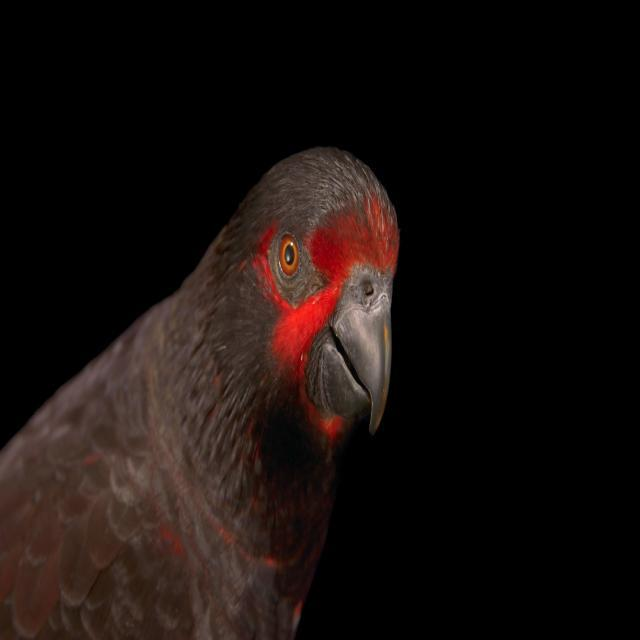Nuri Hitam: (0, 112, 418, 640)
